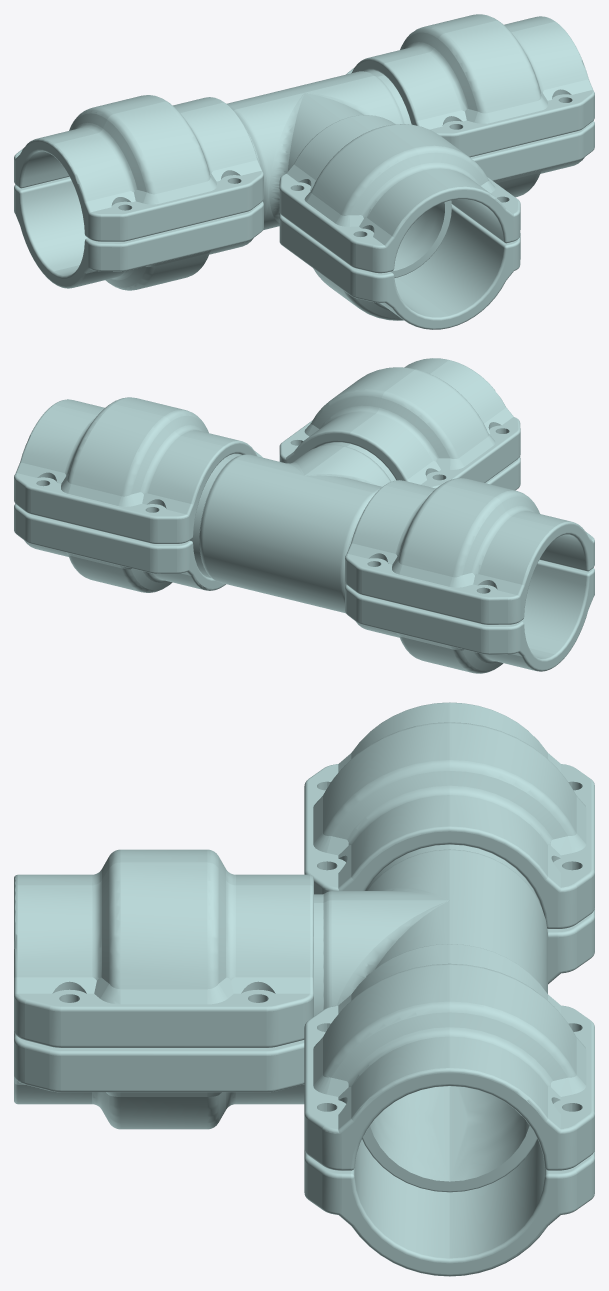
3 renders of one model, top to bottom at view 1: azimuth 30°, elevation 25°; view 2: azimuth 150°, elevation 25°; view 3: azimuth 270°, elevation 25°, orthographic. The views are drawn at different scales.
Size of the model in its own units: 231 by 74.3 by 154.
